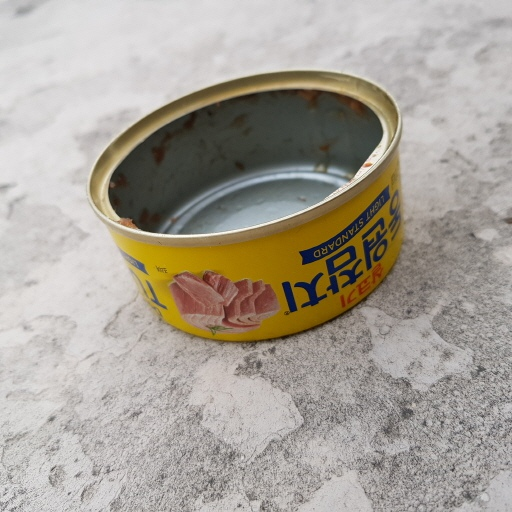Metal_1: (86, 70, 408, 343)
